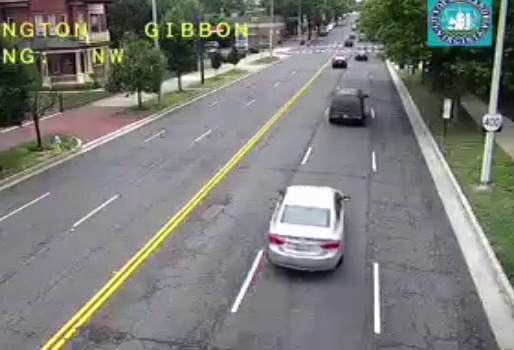car: (268, 186, 345, 272), (330, 88, 365, 123)
